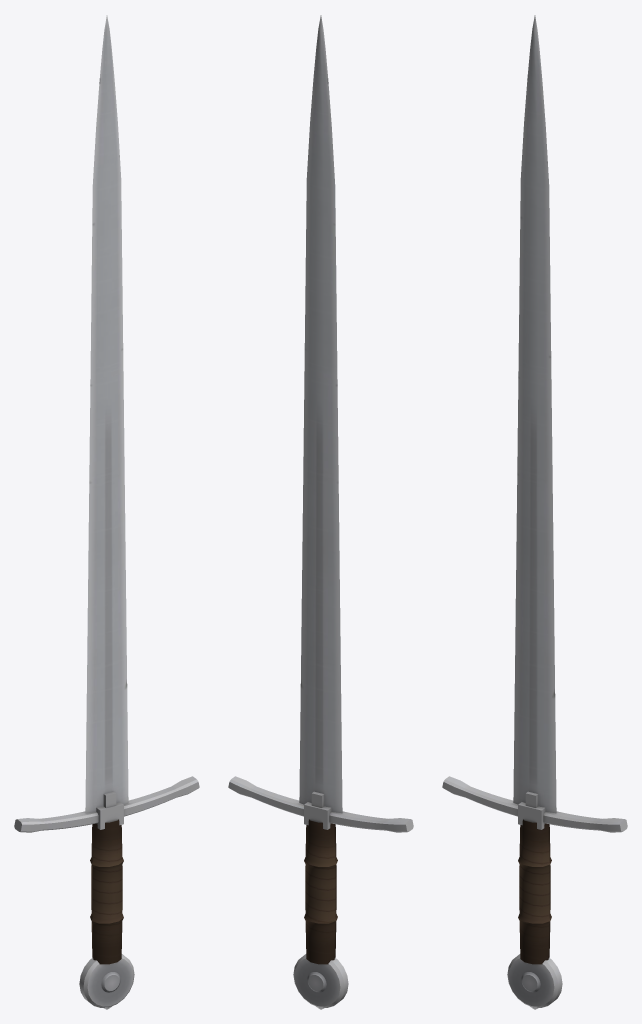
The model's file is sword.glb.
3 views of the same model, side by side, from view 1: azimuth 30°, elevation 25°; view 2: azimuth 150°, elevation 25°; view 3: azimuth 330°, elevation 25° (orthographic).
Parts seen in each view (by area): view 1: SM_Svard, SM_Svard_Faste; view 2: SM_Svard, SM_Svard_Faste; view 3: SM_Svard, SM_Svard_Faste.
Boxes of the visible parts, x1=… form: SM_Svard: x1=85, y1=15, x2=128, y2=964; SM_Svard_Faste: x1=14, y1=776, x2=199, y2=1009; SM_Svard: x1=299, y1=15, x2=342, y2=964; SM_Svard_Faste: x1=228, y1=776, x2=413, y2=1009; SM_Svard: x1=513, y1=15, x2=556, y2=964; SM_Svard_Faste: x1=442, y1=776, x2=627, y2=1009.
Bounding box in the file's own units: 0.2123 × 1.12 × 0.0296.
1 material, 1 textured.
